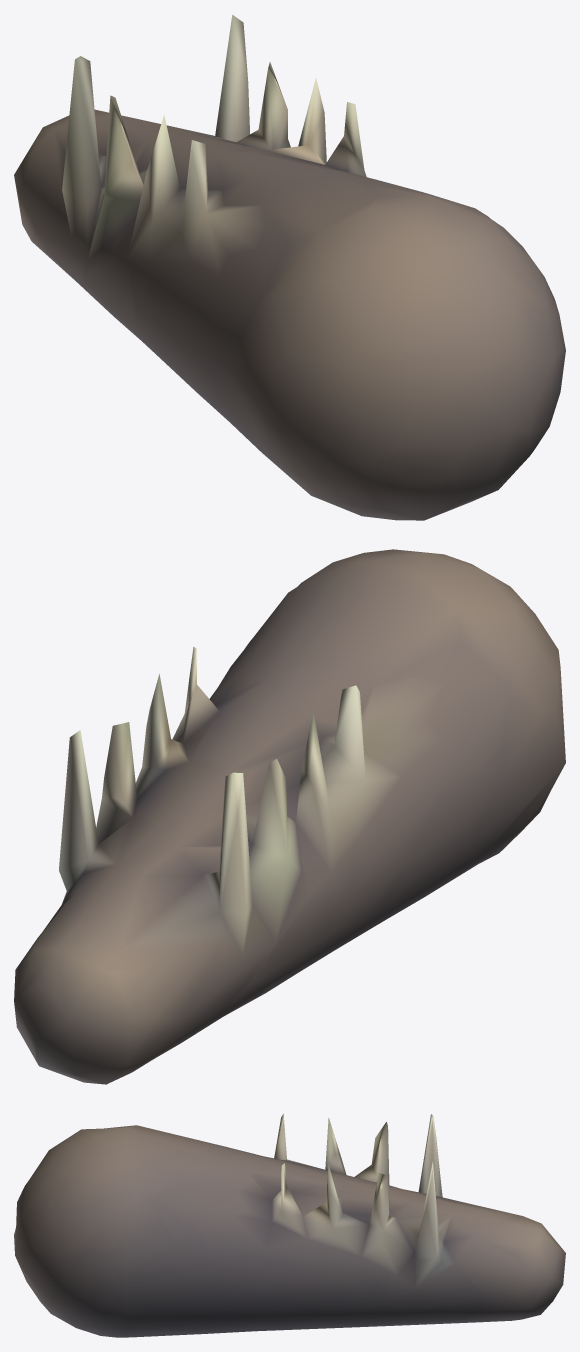
File: hound_jaw.glb
The picture shows the model from 3 angles, top to bottom: view 1: azimuth 30°, elevation 25°; view 2: azimuth 150°, elevation 25°; view 3: azimuth 270°, elevation 25°; orthographic projection. The views are drawn at different scales.
Parts seen in each view (by area): view 1: geometry_0; view 2: geometry_0; view 3: geometry_0.
Part boxes in pixels (x1=…): geometry_0: x1=14, y1=14, x2=565, y2=520; geometry_0: x1=14, y1=549, x2=565, y2=1084; geometry_0: x1=14, y1=1113, x2=565, y2=1337.
Bounding box in the file's own units: 0.1296 × 0.1295 × 0.3378.
